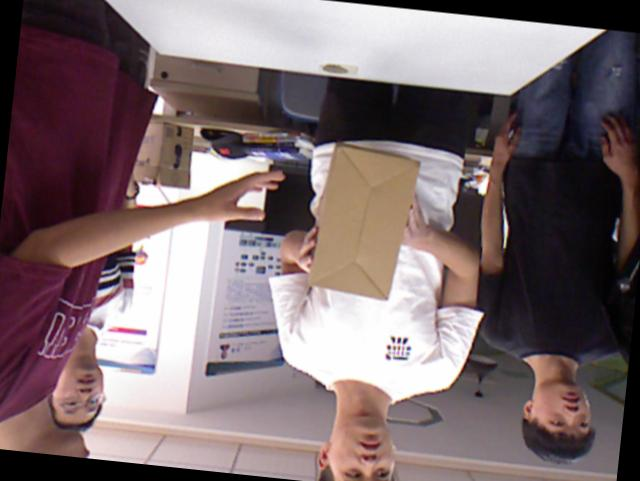cardboard paper: (308, 144, 417, 300), (151, 54, 262, 119), (134, 123, 191, 186)
